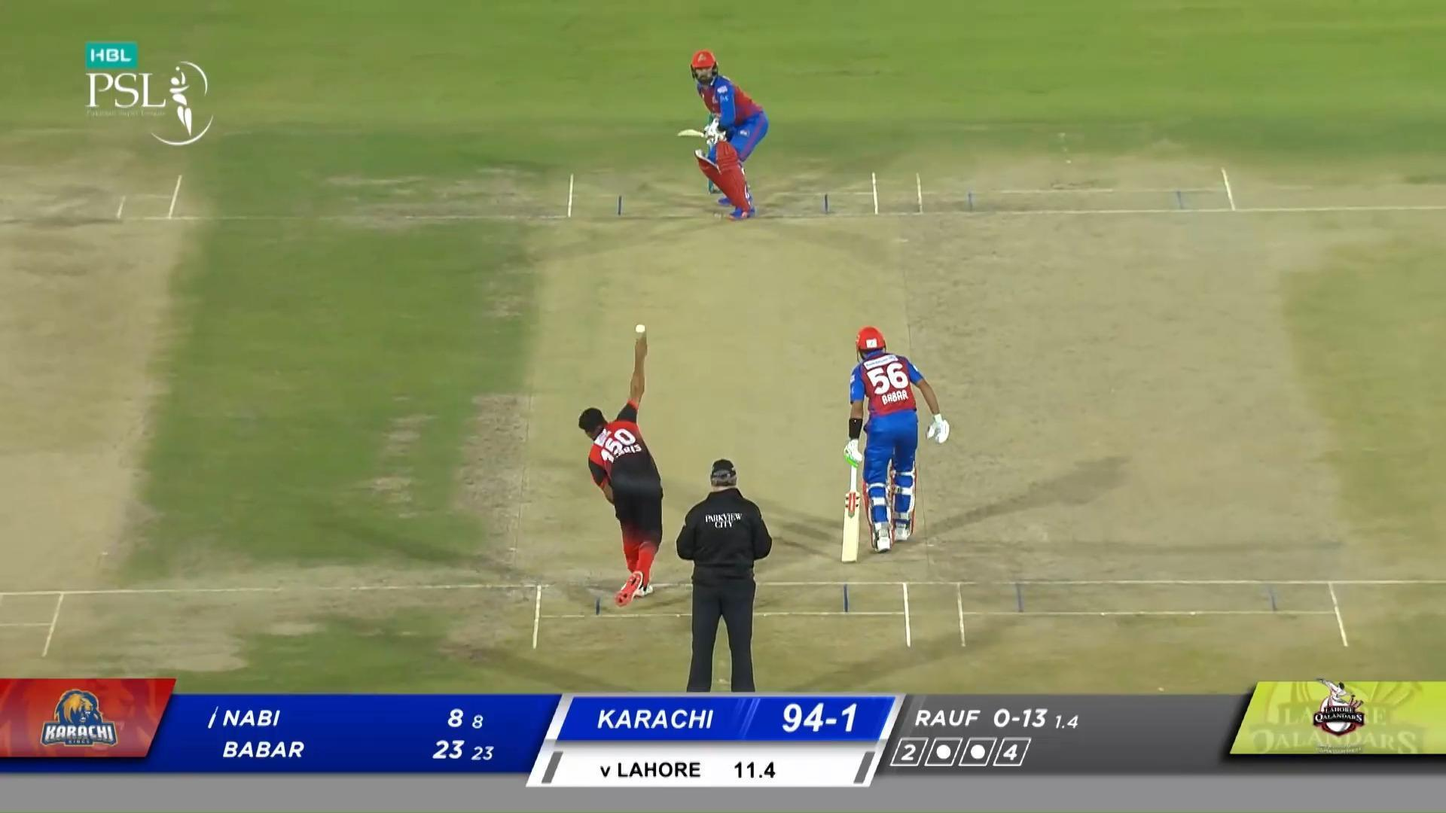BM 1: (676, 49, 769, 222)
BO: (577, 321, 665, 606)
